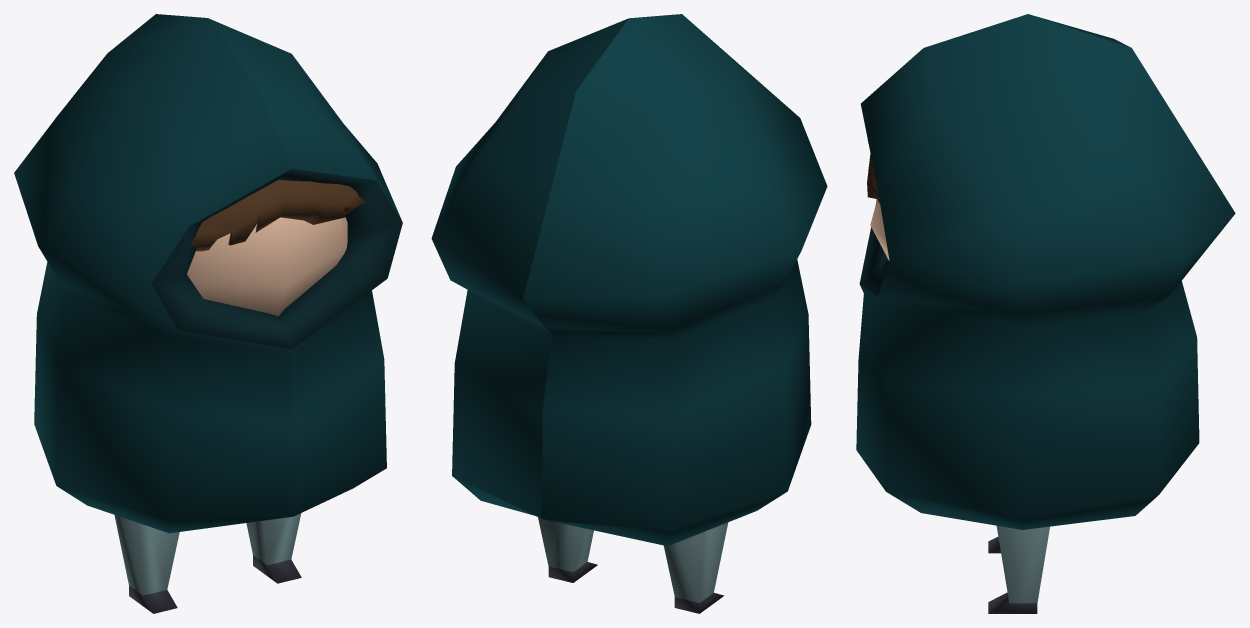
The model's file is player.glb.
3 renders of one model, left to right at view 1: azimuth 30°, elevation 25°; view 2: azimuth 150°, elevation 25°; view 3: azimuth 270°, elevation 25°, orthographic.
Parts seen in each view (by area): view 1: Cube; view 2: Cube; view 3: Cube.
Part boxes in pixels (left/top/right/bottom): Cube: left=14, top=14, right=402, bottom=613; Cube: left=431, top=14, right=827, bottom=613; Cube: left=856, top=14, right=1235, bottom=613.
Bounding box in the file's own units: 1.26 × 2 × 1.22.
